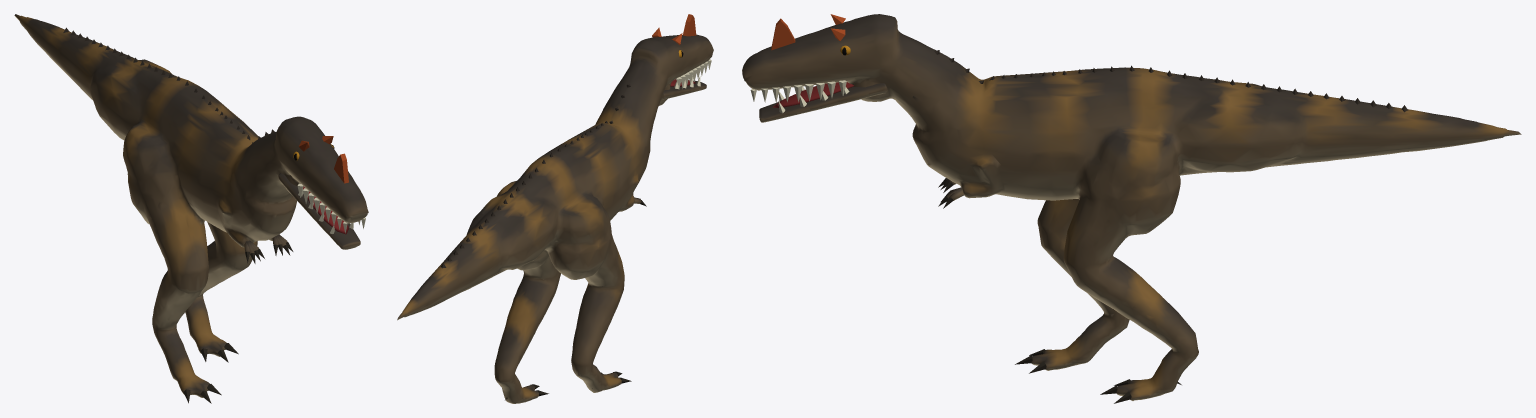
The model's file is Ceratosaurus.fbx.
3 renders of one model, left to right at view 1: azimuth 30°, elevation 25°; view 2: azimuth 150°, elevation 25°; view 3: azimuth 270°, elevation 25°, orthographic. The views are drawn at different scales.
Parts seen in each view (by area): view 1: Ceratosaurus; view 2: Ceratosaurus; view 3: Ceratosaurus.
Boxes of the visible parts, box(x1,y1,x2,y2) form: Ceratosaurus: box(14, 14, 368, 403); Ceratosaurus: box(397, 14, 713, 403); Ceratosaurus: box(742, 14, 1521, 403).
Bounding box in the file's own units: 0.5459 × 1.47 × 2.86.
